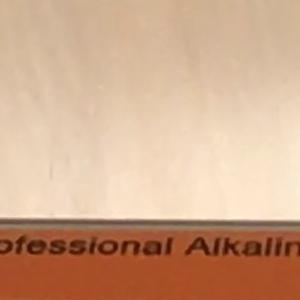ALK: (175, 226, 232, 266)
